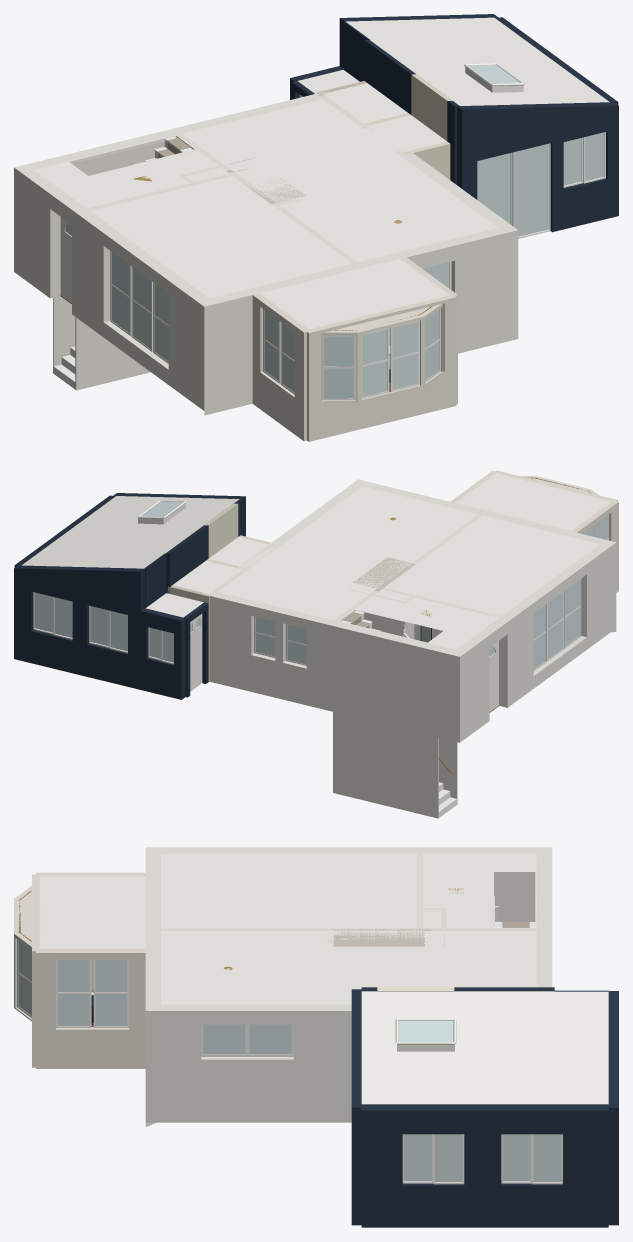
The picture shows the model from 3 angles, top to bottom: view 1: azimuth 30°, elevation 25°; view 2: azimuth 150°, elevation 25°; view 3: azimuth 270°, elevation 25°; orthographic projection. The views are drawn at different scales.
Parts seen in each view (by area): view 1: Ceiling/dining-room.001, ext-top.001, Dining/dining-high_windows/glass.001, office-east.001, sunroom-notch-west.001, Core/Pantry east jamb.001, entry-closet-west.001, sunroom-west-north.001, Dining/ext-right/baseboard.001, kitchen-recess-north.001, kitchen-recess-south.001, Sunroom/Skylight reveal 0.001 (+1 smaller); view 2: Ceiling/dining-room.001, ext-top.001, sunroom-notch-west.001, entry-closet-west.001, Dining/dining-high_windows/glass.001, Core/Pantry east jamb.001, sunroom-west-north.001, Dining/ext-right/baseboard.001, office-east.001, kitchen-recess-north.001, Core/Chimney south mass.001, bathroom-north.001 (+1 smaller); view 3: Ceiling/dining-room.001, ext-top.001, sunroom-notch-west.001, Dining/dining-high_windows/glass.001, office-east.001, Core/Pantry east jamb.001, Dining/ext-right/baseboard.001, Core/Chimney south mass.001, Sunroom/Skylight glass.001, Sunroom/Skylight reveal 0.001, sunroom-west-north.001, Office/Bay soffit.001.
Boxes of the visible parts, left/top/right/bottom form: Ceiling/dining-room.001: left=34, top=17, right=609, bottom=329; ext-top.001: left=14, top=91, right=518, bottom=415; Dining/dining-high_windows/glass.001: left=65, top=132, right=604, bottom=398; office-east.001: left=252, top=257, right=457, bottom=441; sunroom-notch-west.001: left=290, top=14, right=618, bottom=232; Core/Pantry east jamb.001: left=53, top=83, right=605, bottom=400; entry-closet-west.001: left=53, top=149, right=304, bottom=390; sunroom-west-north.001: left=343, top=21, right=459, bottom=184; Dining/ext-right/baseboard.001: left=34, top=94, right=497, bottom=303; kitchen-recess-north.001: left=365, top=74, right=452, bottom=140; kitchen-recess-south.001: left=403, top=141, right=450, bottom=179; Sunroom/Skylight reveal 0.001: left=464, top=63, right=524, bottom=92; Ceiling/dining-room.001: left=21, top=473, right=610, bottom=649; ext-top.001: left=202, top=479, right=616, bottom=742; sunroom-notch-west.001: left=14, top=493, right=245, bottom=699; entry-closet-west.001: left=333, top=557, right=457, bottom=818; Dining/dining-high_windows/glass.001: left=34, top=515, right=607, bottom=669; Core/Pantry east jamb.001: left=33, top=501, right=608, bottom=817; sunroom-west-north.001: left=144, top=499, right=243, bottom=608; Dining/ext-right/baseboard.001: left=190, top=486, right=598, bottom=711; office-east.001: left=450, top=470, right=618, bottom=592; kitchen-recess-north.001: left=204, top=503, right=244, bottom=568; Core/Chimney south mass.001: left=353, top=557, right=415, bottom=589; bathroom-north.001: left=167, top=562, right=226, bottom=682; Ceiling/dining-room.001: left=39, top=854, right=608, bottom=1104; ext-top.001: left=145, top=847, right=552, bottom=1126; sunroom-notch-west.001: left=351, top=989, right=618, bottom=1227; Dining/dining-high_windows/glass.001: left=18, top=940, right=561, bottom=1181; office-east.001: left=14, top=872, right=145, bottom=1068; Core/Pantry east jamb.001: left=17, top=875, right=562, bottom=1184; Dining/ext-right/baseboard.001: left=161, top=854, right=536, bottom=1004; Core/Chimney south mass.001: left=333, top=928, right=424, bottom=946; Sunroom/Skylight glass.001: left=398, top=1020, right=453, bottom=1041; Sunroom/Skylight reveal 0.001: left=395, top=1018, right=456, bottom=1051; sunroom-west-north.001: left=361, top=987, right=608, bottom=991; Office/Bay soffit.001: left=19, top=890, right=31, bottom=942.
Bounding box in the file's own units: 12.55 × 5.82 × 11.95.
